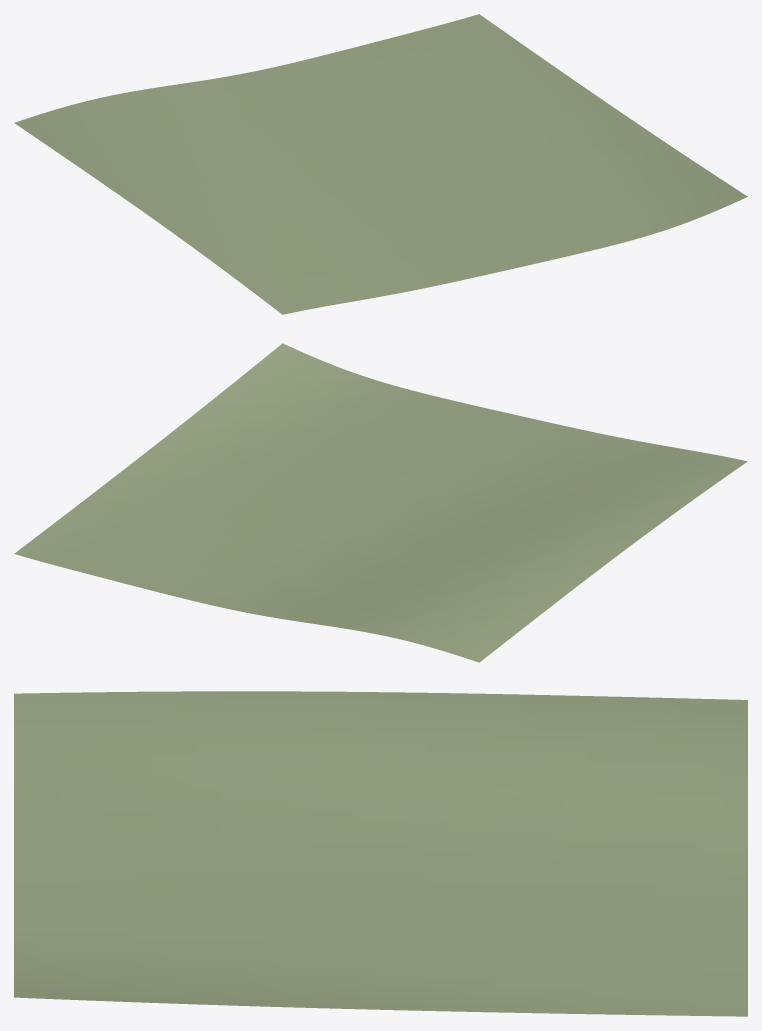
File: desert-1-5.glb
3 views of the same model, one above another, from view 1: azimuth 30°, elevation 25°; view 2: azimuth 150°, elevation 25°; view 3: azimuth 270°, elevation 25° (orthographic). The views are drawn at different scales.
Parts seen in each view (by area): view 1: desert-1-5; view 2: desert-1-5; view 3: desert-1-5.
Boxes of the visible parts, bbox=[...] form: desert-1-5: bbox=[14, 14, 747, 314]; desert-1-5: bbox=[14, 343, 747, 662]; desert-1-5: bbox=[14, 691, 747, 1016].
Bounding box in the file's own units: 512 × 18.23 × 512.
